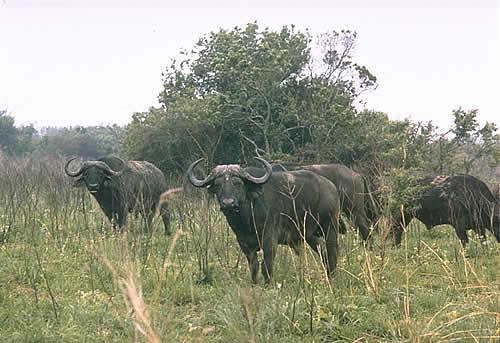Buffalo: (34, 52, 495, 300)
